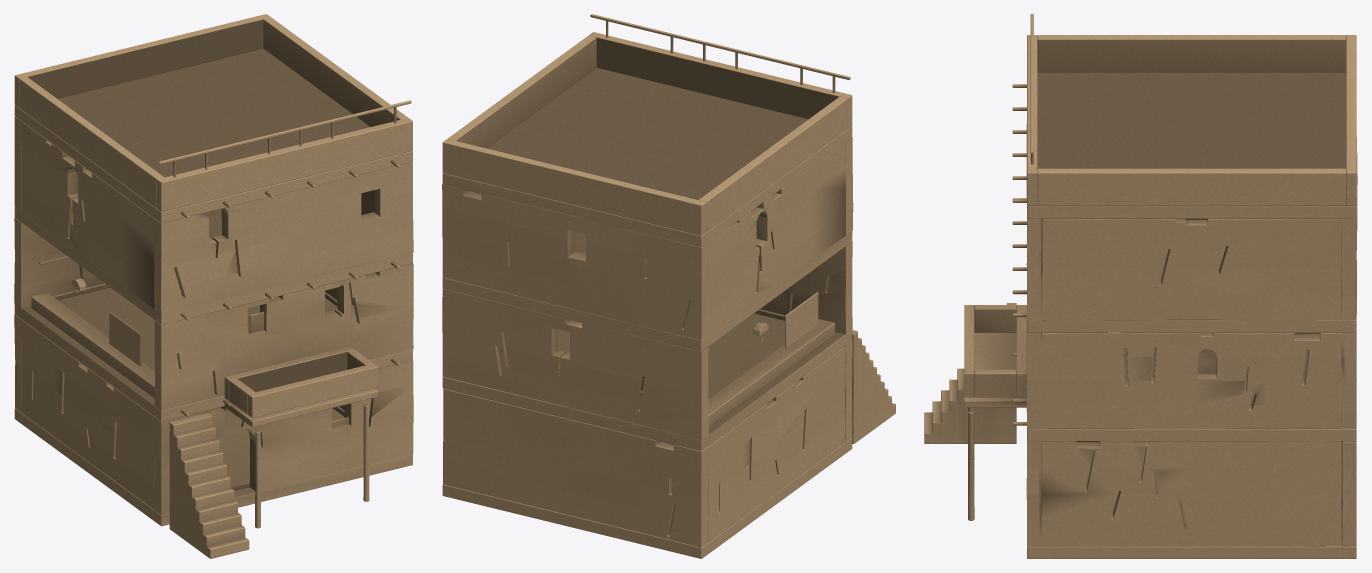
File: house_21.glb
3 views of the same model, side by side, from view 1: azimuth 30°, elevation 25°; view 2: azimuth 150°, elevation 25°; view 3: azimuth 270°, elevation 25° (orthographic). The views are drawn at different scales.
Parts seen in each view (by area): view 1: house; view 2: house; view 3: house.
Part boxes in pixels (x1,y1,x2,y2): house: (14, 14, 413, 558); house: (442, 14, 895, 558); house: (924, 14, 1357, 558).
Size of the model in its own units: 9.4 by 12.87 by 12.4.
Materials: 1 (1 with a texture image).
